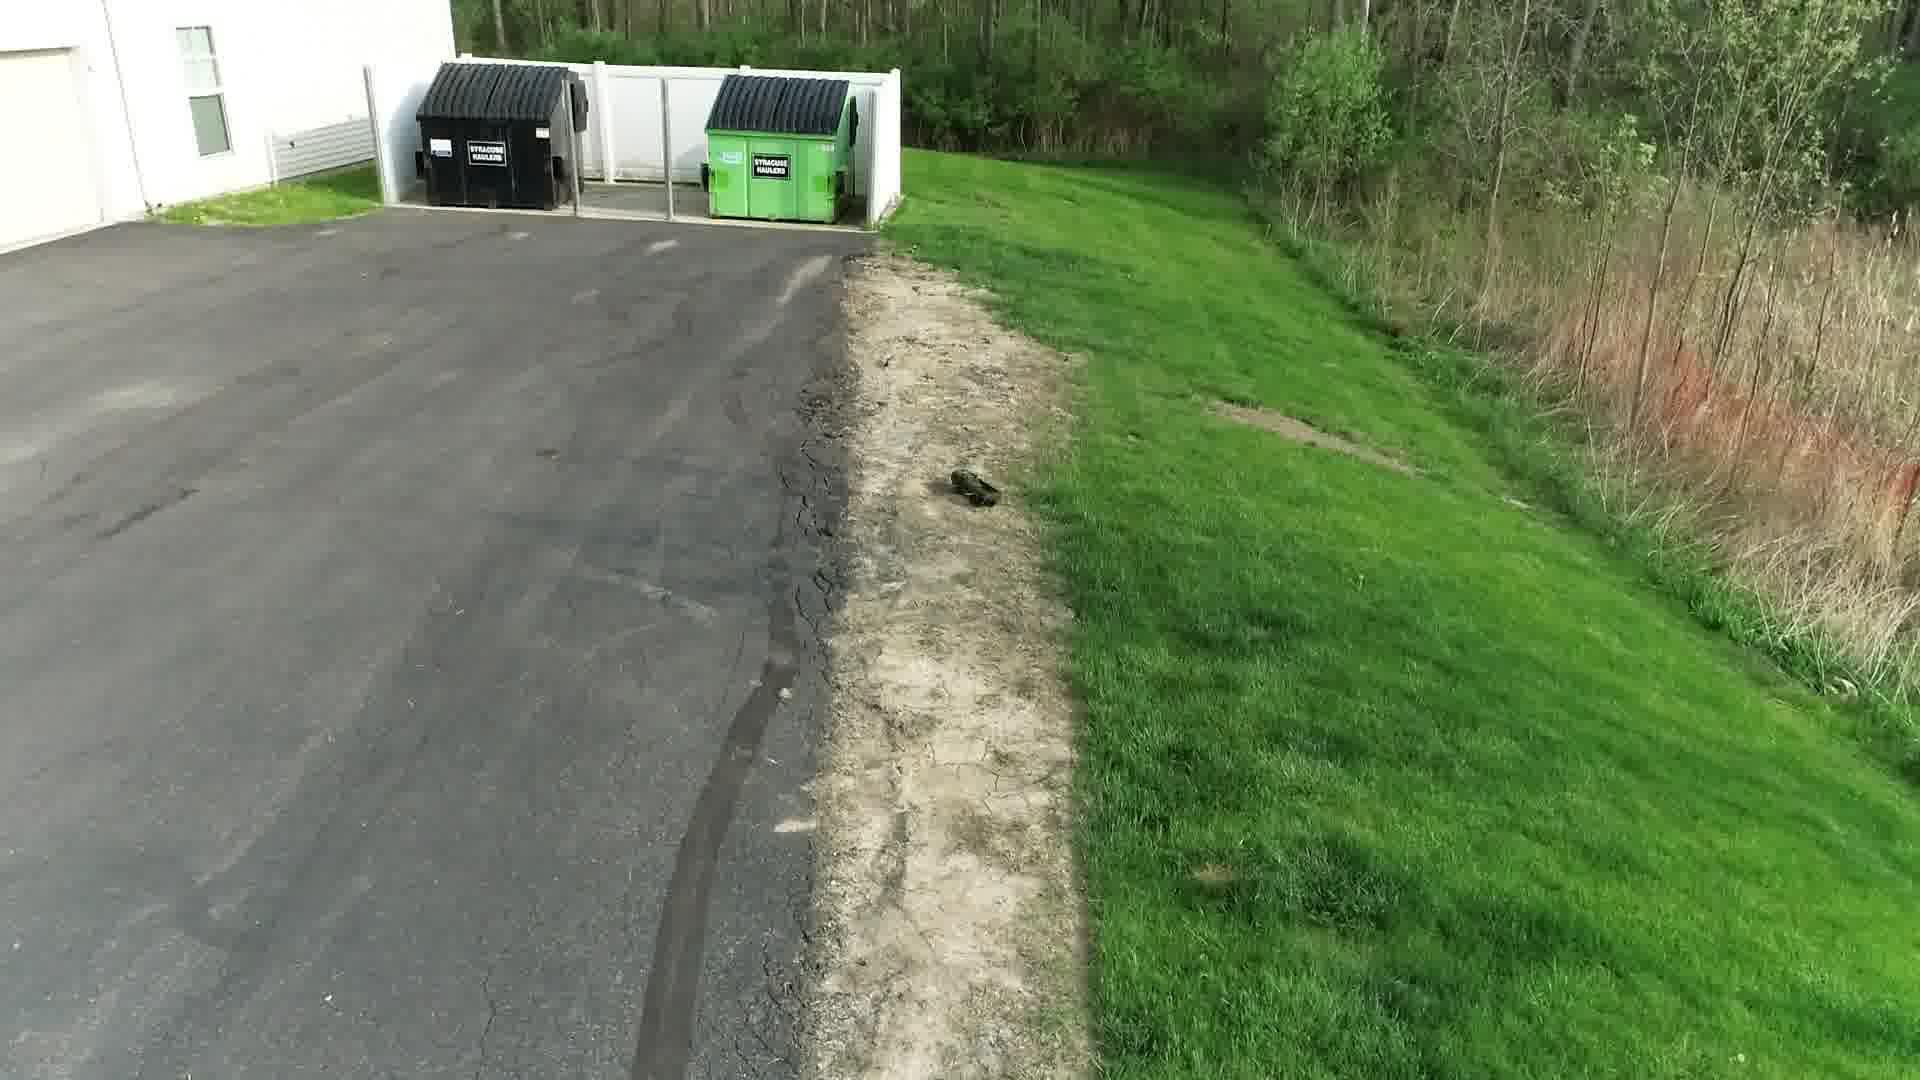transporter9: (949, 465, 1002, 510)
